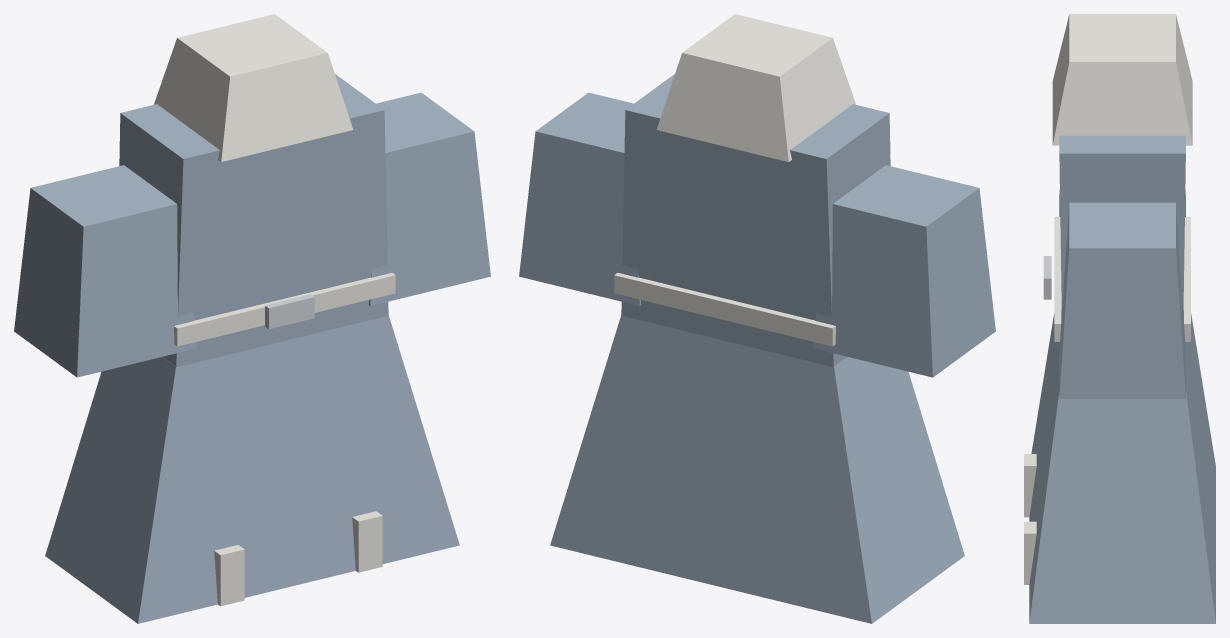
The model's file is travel_robe.glb.
3 views of the same model, side by side, from view 1: azimuth 30°, elevation 25°; view 2: azimuth 150°, elevation 25°; view 3: azimuth 270°, elevation 25° (orthographic).
Visible parts, largest first — view 1: robe_skirt, robe_body, robe_sleeve_left, robe_neck, robe_sleeve_right, robe_sash, robe_border_right, robe_border_left, robe_sash_clasp; view 2: robe_skirt, robe_body, robe_sleeve_left, robe_neck, robe_sleeve_right, robe_sash; view 3: robe_skirt, robe_sleeve_right, robe_neck, robe_body, robe_sash, robe_border_right, robe_border_left, robe_sash_clasp.
Part boxes in pixels (x1,y1,x2,y2): robe_skirt: (45, 315, 459, 623); robe_body: (119, 74, 388, 367); robe_sleeve_left: (14, 165, 197, 377); robe_neck: (154, 14, 353, 161); robe_sleeve_right: (368, 92, 490, 305); robe_sash: (174, 273, 395, 346); robe_border_right: (352, 511, 382, 572); robe_border_left: (214, 545, 244, 606); robe_sash_clasp: (265, 294, 314, 329); robe_skirt: (550, 315, 964, 623); robe_body: (621, 74, 890, 367); robe_sleeve_left: (812, 165, 995, 377); robe_neck: (656, 14, 855, 161); robe_sleeve_right: (519, 92, 641, 305); robe_sash: (614, 273, 835, 346); robe_skirt: (1029, 313, 1215, 623); robe_sleeve_right: (1059, 202, 1185, 398); robe_neck: (1052, 14, 1192, 145); robe_body: (1059, 135, 1185, 312); robe_sash: (1054, 217, 1190, 341); robe_border_right: (1024, 521, 1036, 584); robe_border_left: (1024, 454, 1036, 517); robe_sash_clasp: (1043, 256, 1051, 299).
Bounding box in the file's own units: 1.44 × 1.68 × 0.576.
